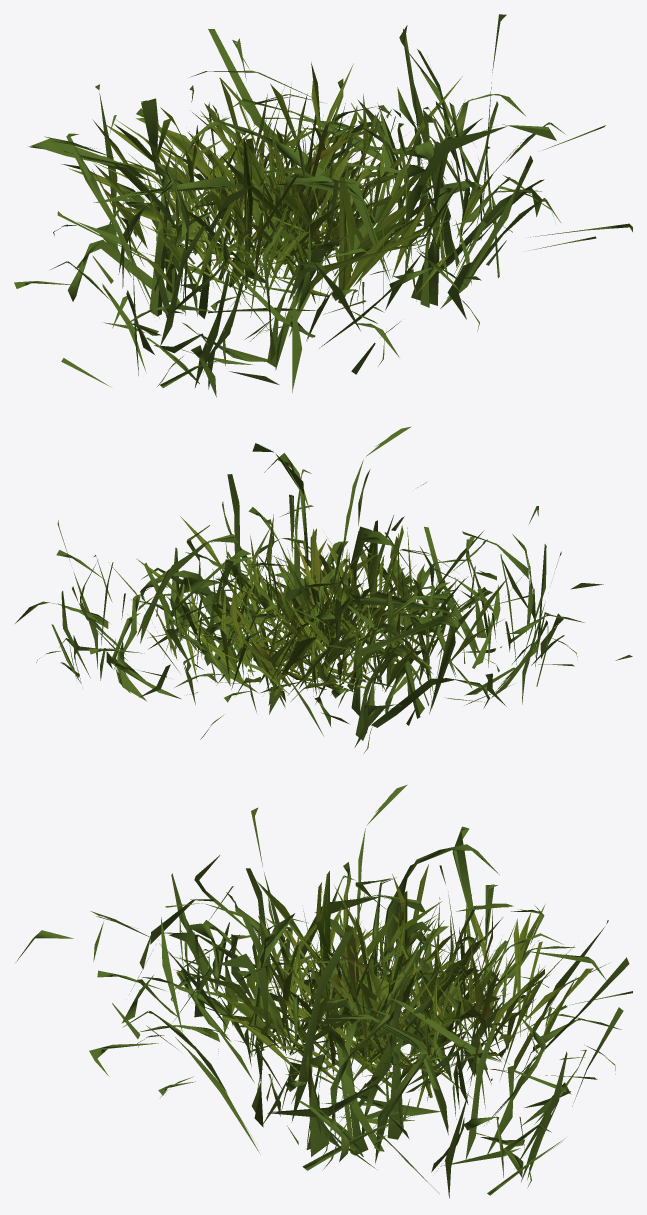
The model's file is grass3.glb.
The picture shows the model from 3 angles, top to bottom: view 1: azimuth 30°, elevation 25°; view 2: azimuth 150°, elevation 25°; view 3: azimuth 270°, elevation 25°; orthographic projection. The views are drawn at different scales.
Parts seen in each view (by area): view 1: Grass3; view 2: Grass3; view 3: Grass3.
Part boxes in pixels (box(x1,y1,x2,y2)): Grass3: box(14, 14, 632, 397); Grass3: box(15, 426, 632, 752); Grass3: box(15, 784, 632, 1198).
Bounding box in the file's own units: 0.817 × 0.3014 × 0.7302.
1 material, 1 textured.
